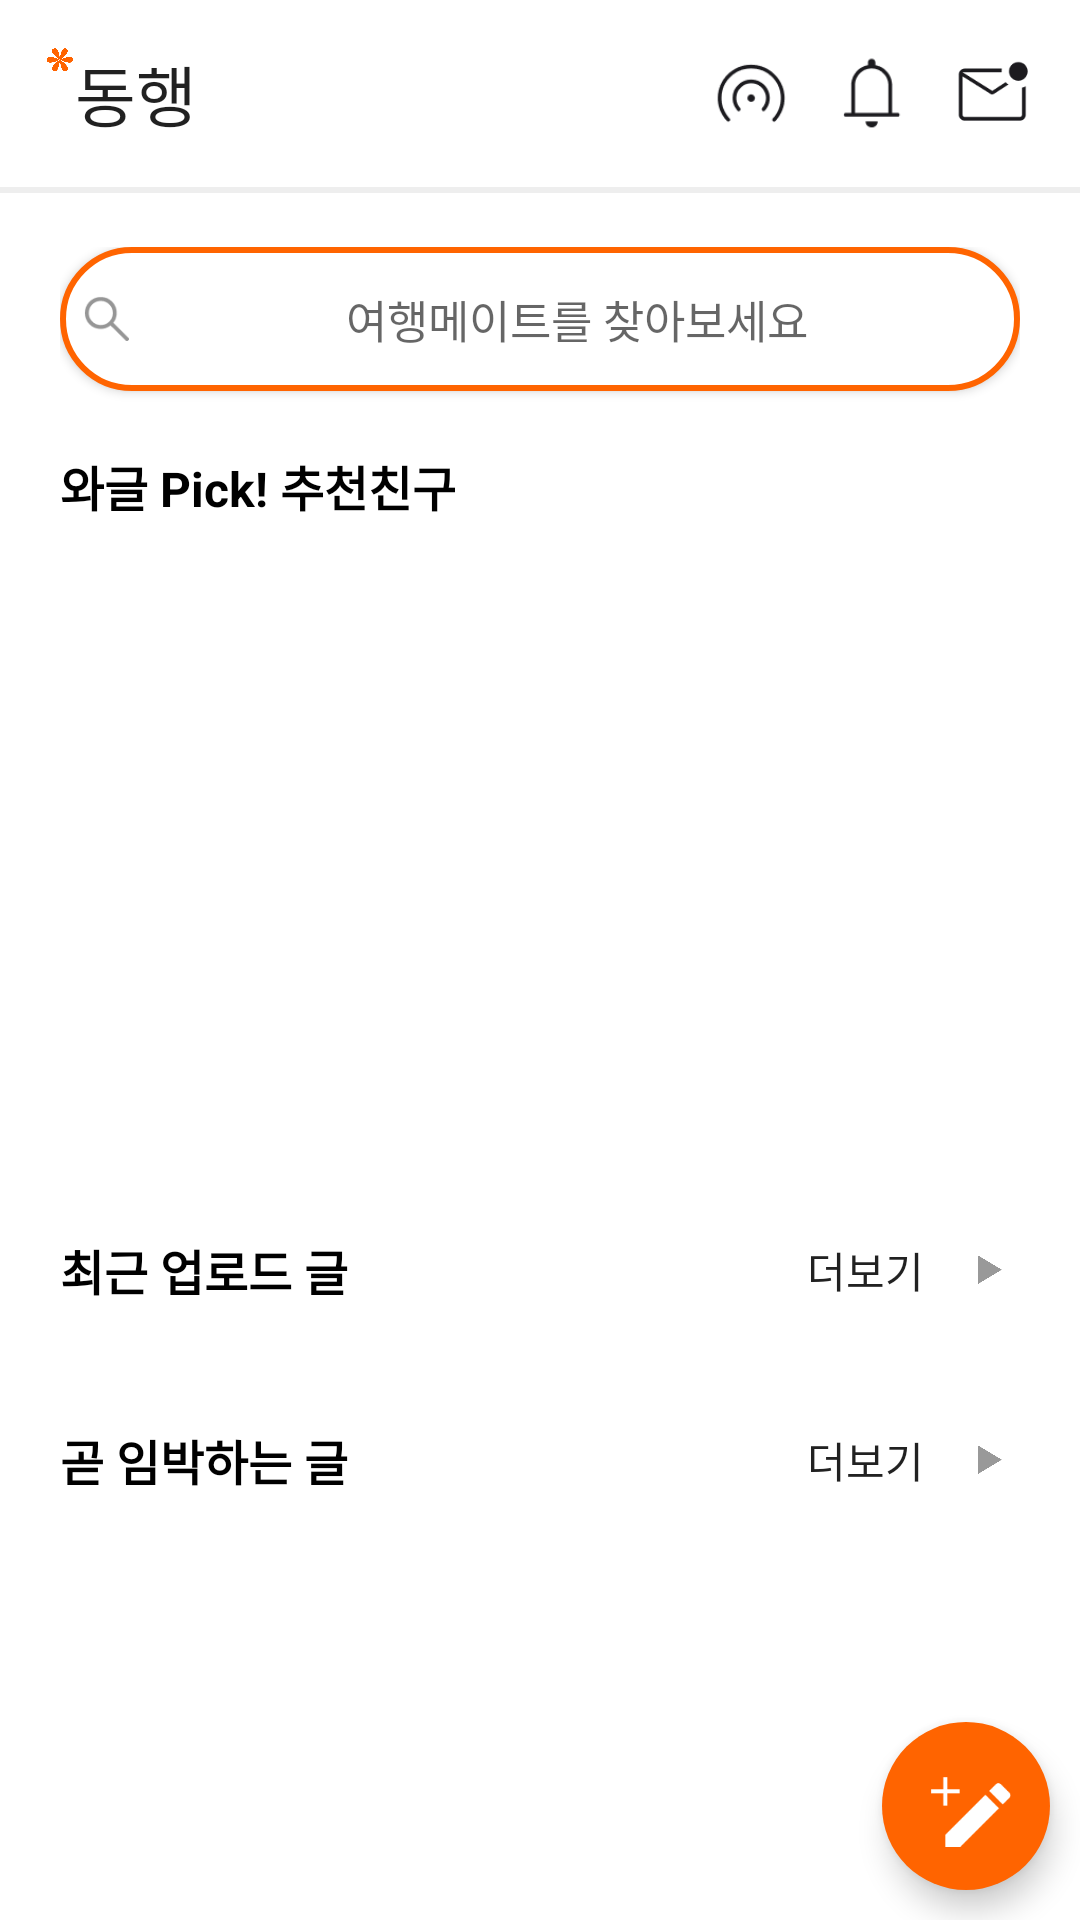

Screen size 1080px×1920px. Icon name, then its center in pixels as [x,y]:
add write: [966,1806]
